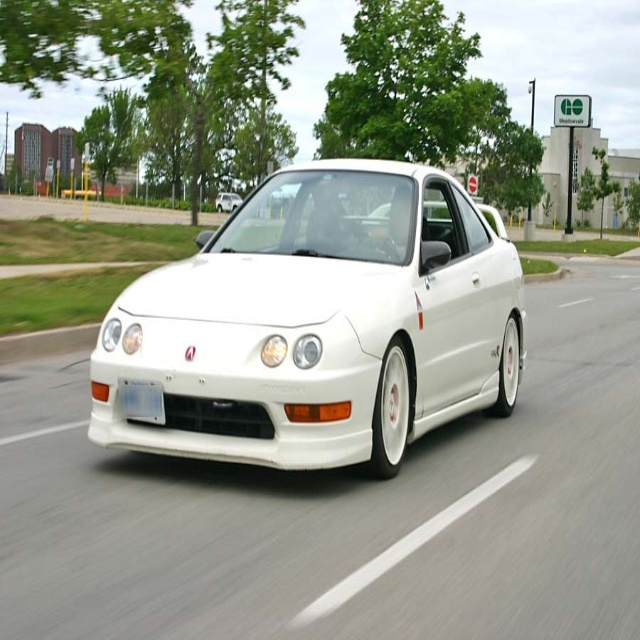Car: (87, 157, 527, 484)
